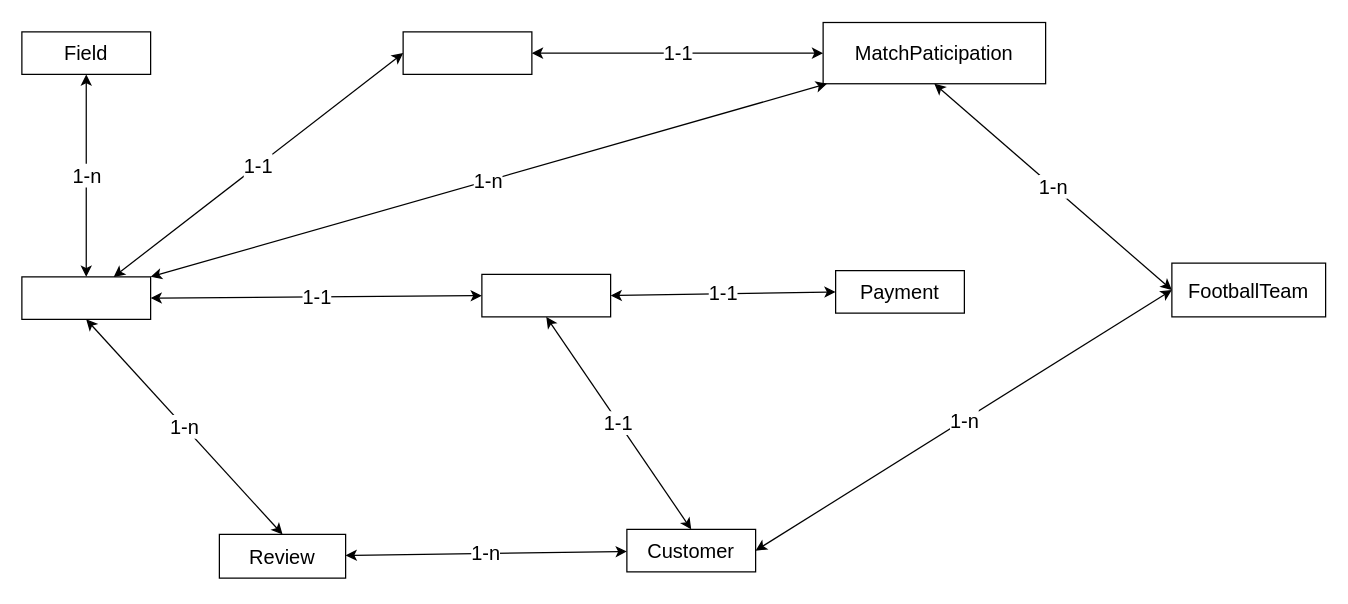
Some shapes in this 1348 by 604 pixel diagram are drawn without their labels. The shapes that lost their labels are listed below. From the top down, each one's box as (x1, y1, x2, y2) in pixels, then its label:
(402, 31, 532, 74): Match
(21, 276, 151, 319): FieldDetail
(481, 273, 611, 317): Booking
